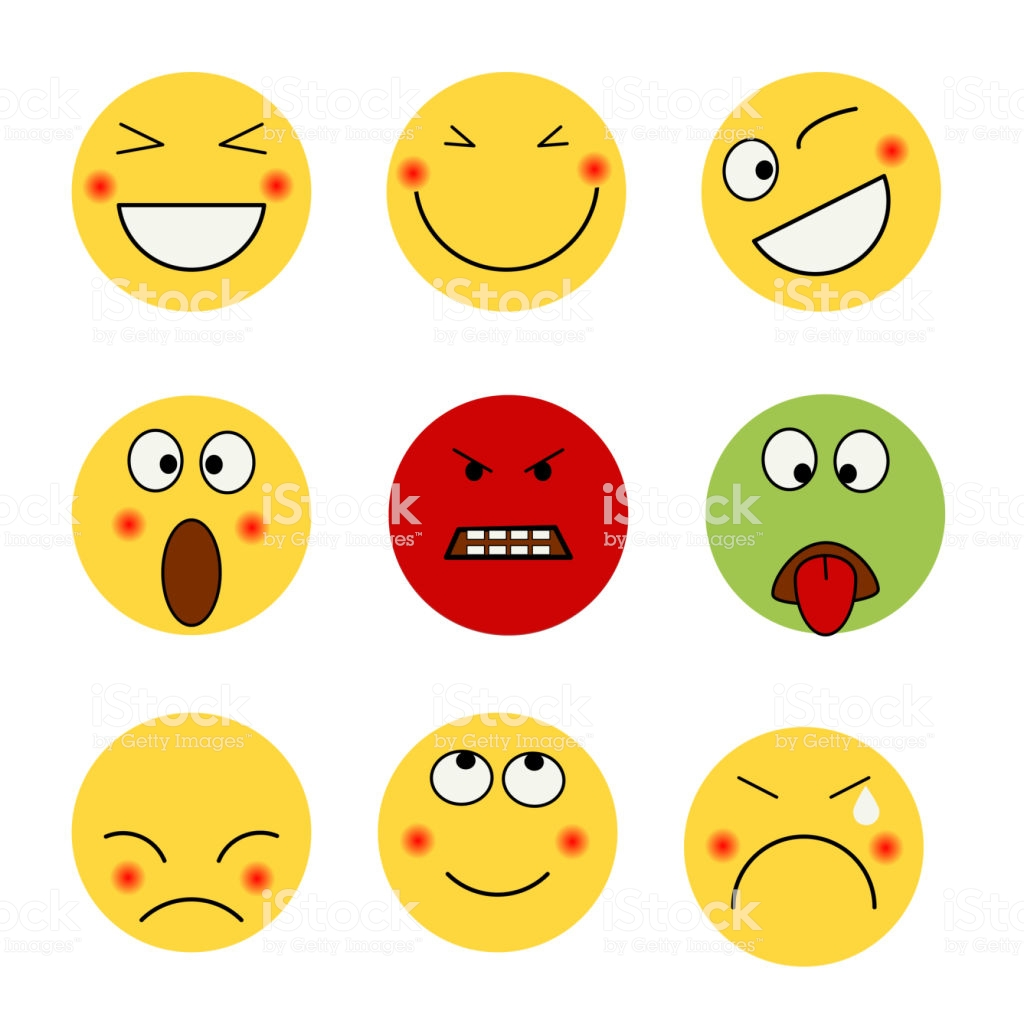triste: (731, 753, 885, 938), (118, 799, 276, 936)
